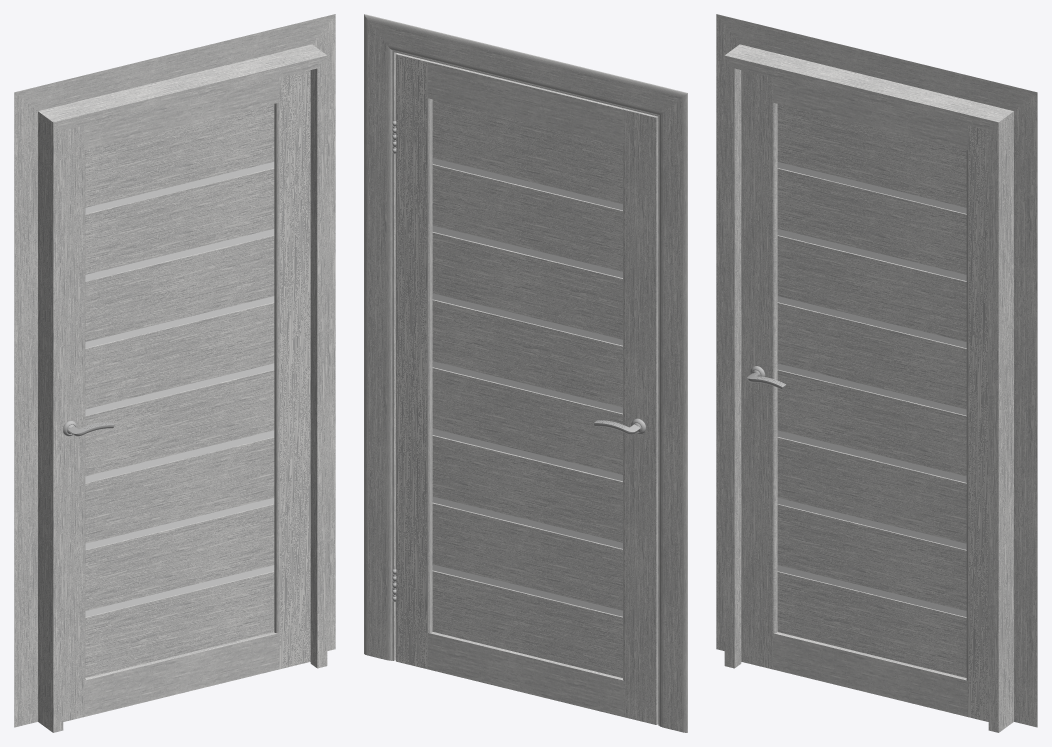
File: 4_siteDraco.gltf
The picture shows the model from 3 angles, left to right: view 1: azimuth 30°, elevation 25°; view 2: azimuth 150°, elevation 25°; view 3: azimuth 330°, elevation 25°; orthographic projection.
Visible parts, largest first — view 1: 408site; view 2: 408site; view 3: 408site.
Part boxes in pixels (x1=…): 408site: x1=14, y1=14, x2=335, y2=732; 408site: x1=364, y1=14, x2=687, y2=732; 408site: x1=716, y1=14, x2=1037, y2=732.
Size of the model in its own units: 1.11 by 2.11 by 0.1633.
4 materials, 1 textured.
